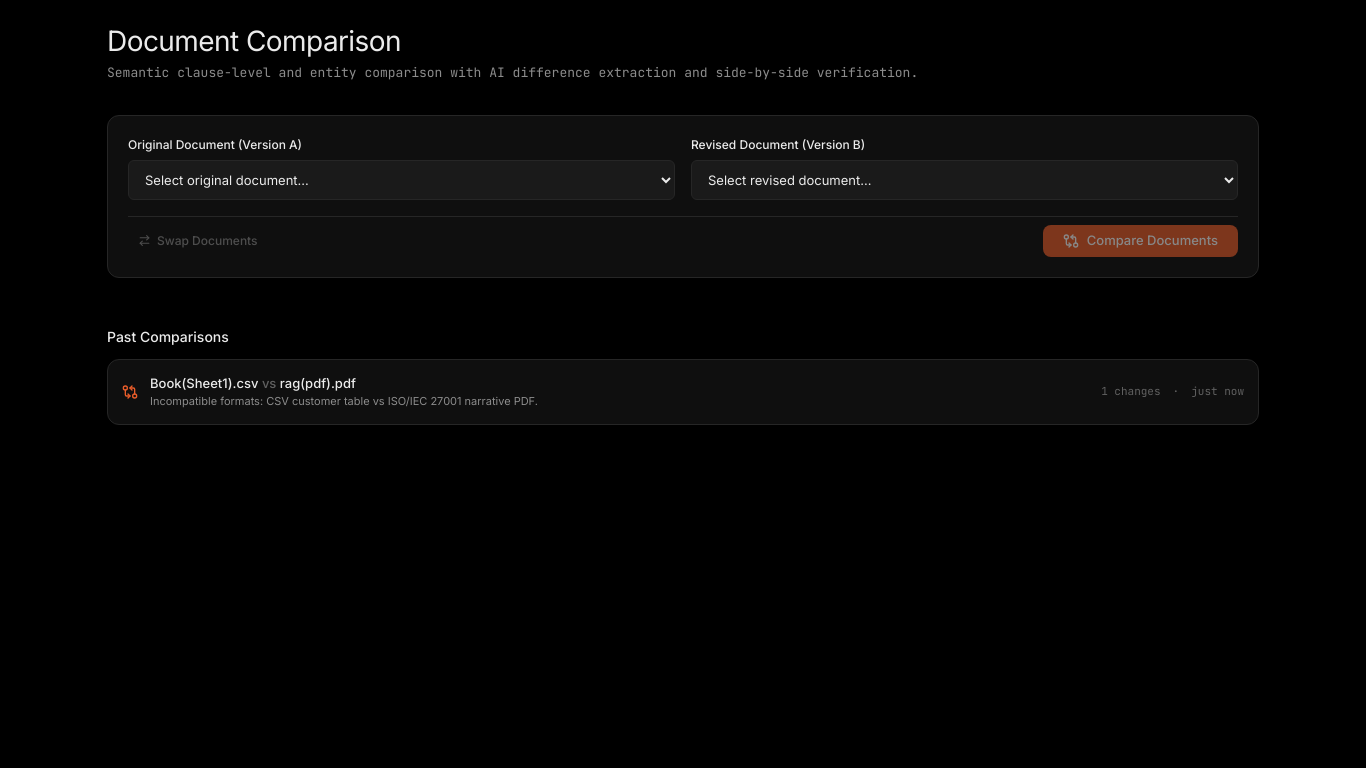
Test: ComparePage Component Regression Tests › sends correct document IDs and renders verified response for CSV vs Excel
The width and height of the screenshot is (1366, 768).
Select "Book(Sheet1).csv (CSV)" in the dropdown below "Original Document (Version A)" at [402, 180], box [128, 160, 675, 200]
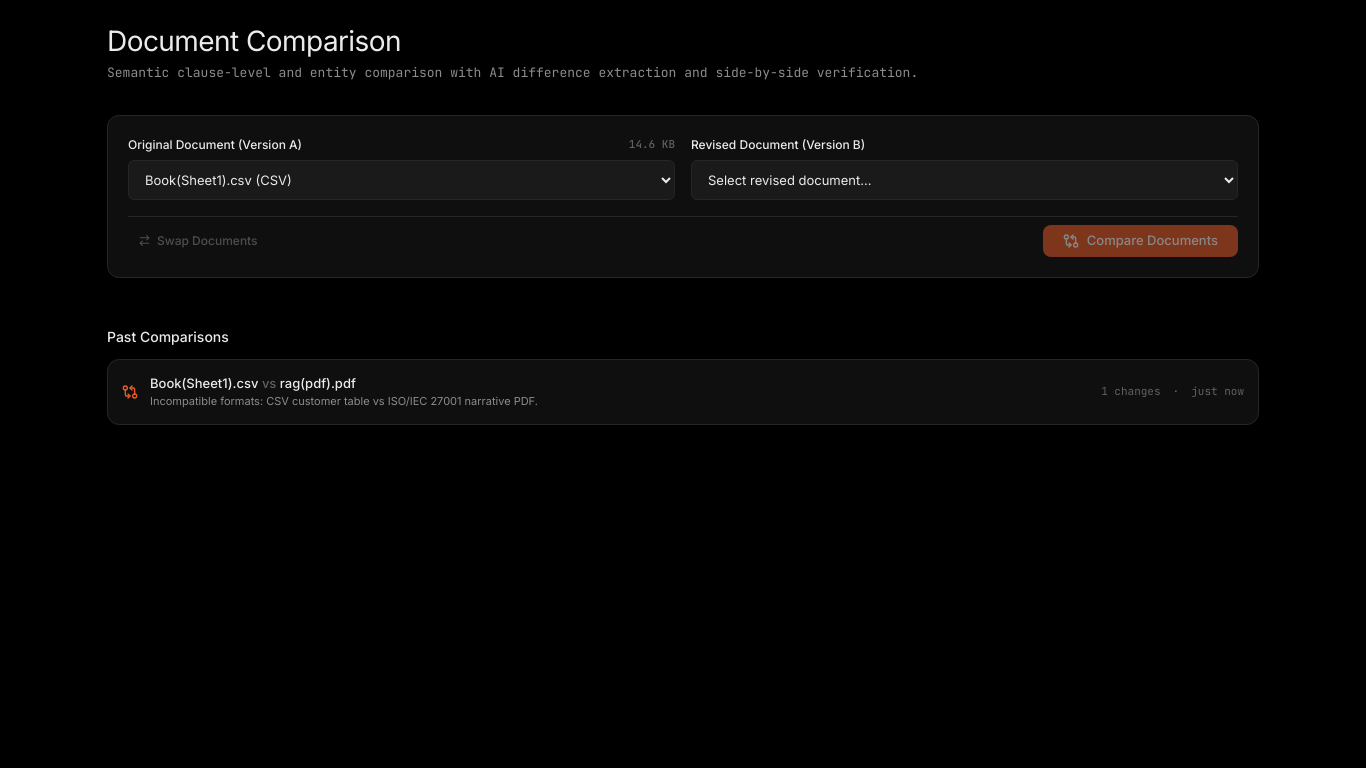
Select "Ecommerce 1.xlsx (XLSX)" in the dropdown below "Revised Document (Version B)" at [964, 180], box [691, 160, 1238, 200]
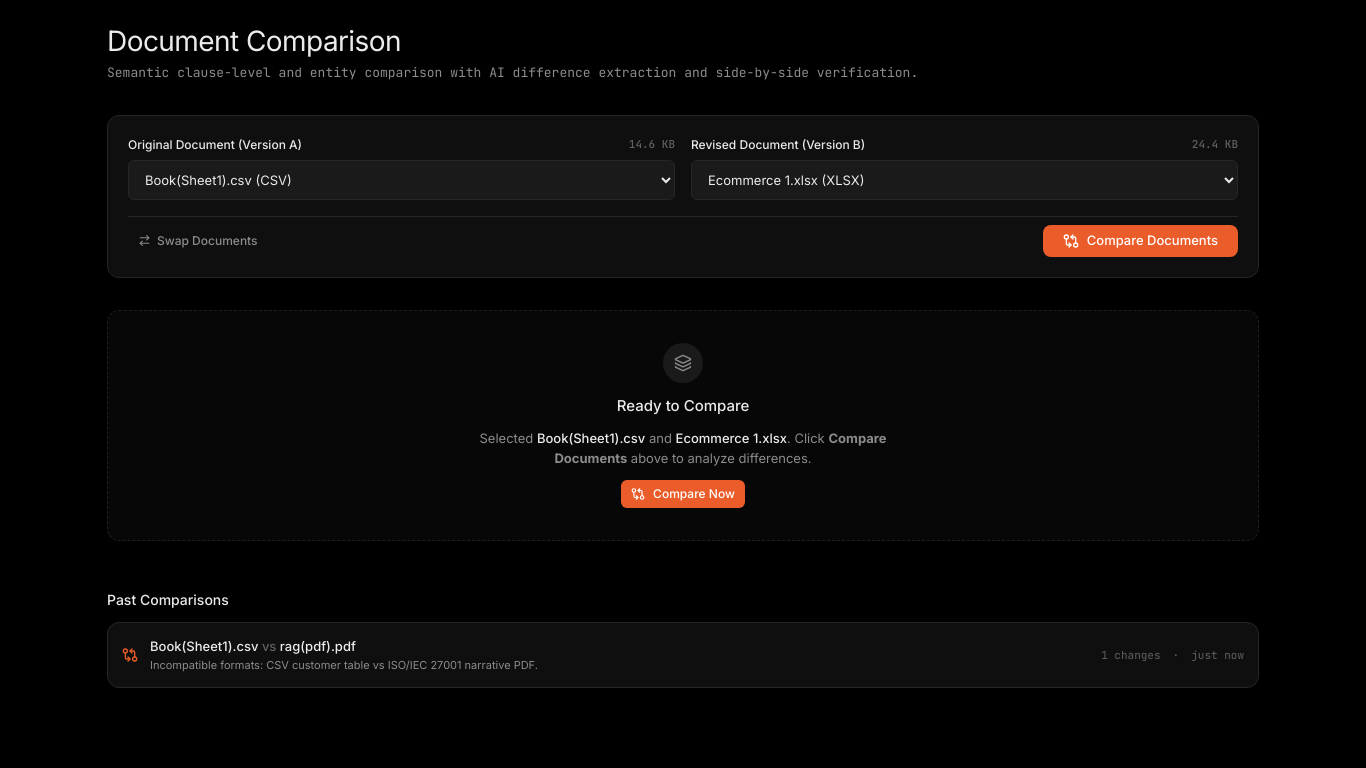
Click the button "Compare Documents".
click(1140, 240)  # box [1043, 224, 1238, 256]
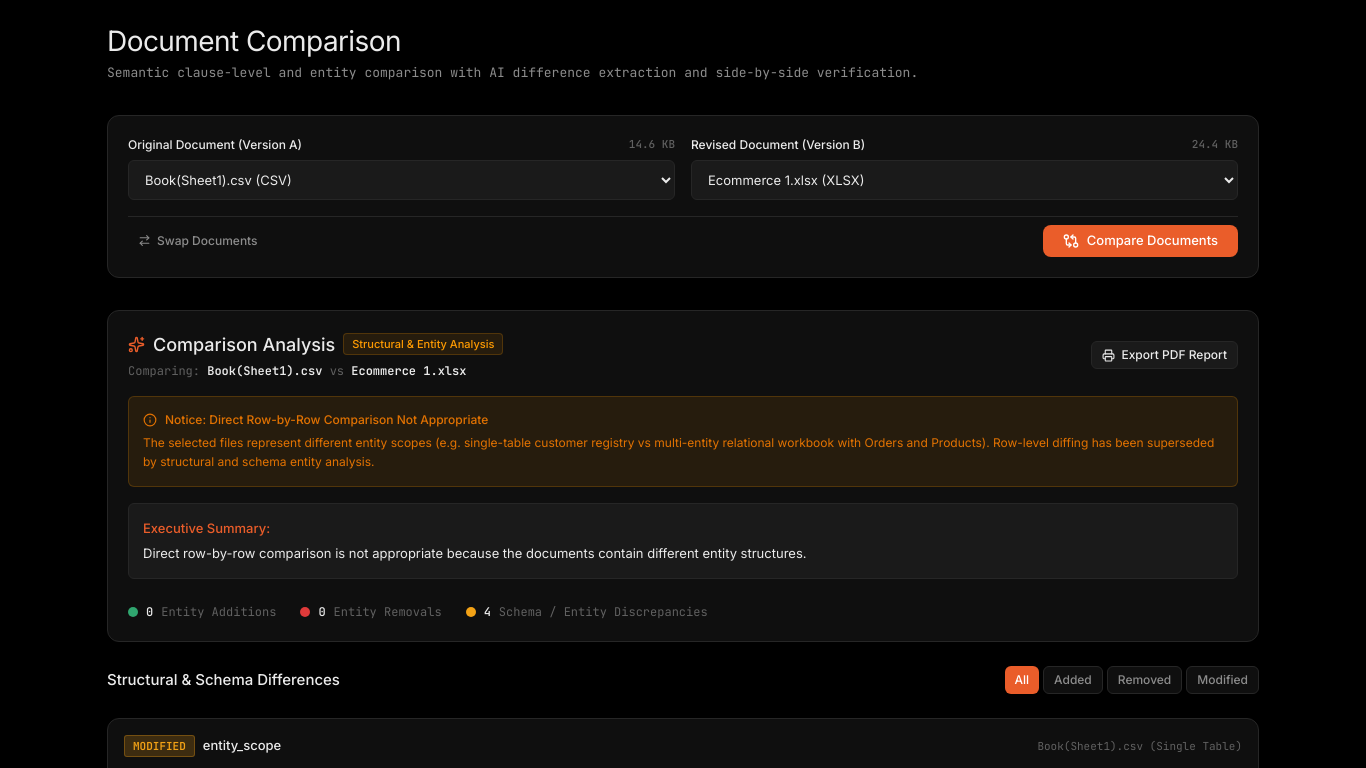
expect the text "Direct row-by-row comparison is not appropriate" is shown: met, box [143, 545, 806, 561]
expect the text "Structural & Entity Analysis" is shown: met, box [343, 333, 503, 355]
expect the text "Comparison Analysis" no longer shows "rag(pdf).pdf": met
